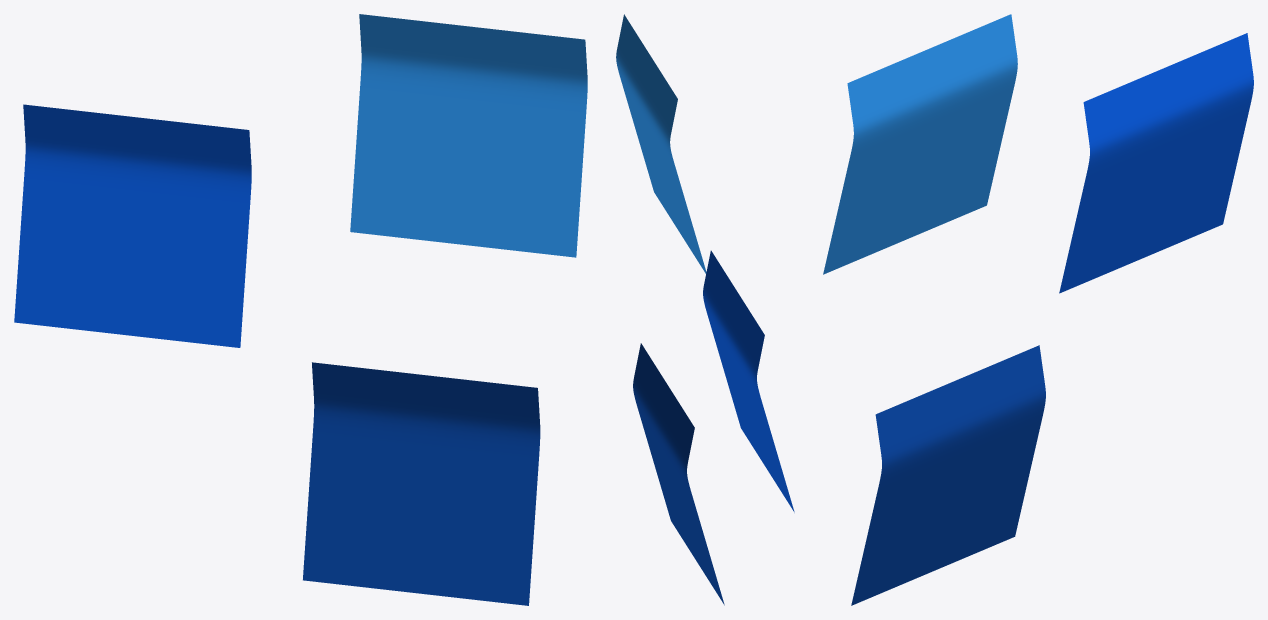
File: sticky_notes.glb
3 renders of one model, left to right at view 1: azimuth 30°, elevation 25°; view 2: azimuth 150°, elevation 25°; view 3: azimuth 270°, elevation 25°, orthographic. The views are drawn at different scales.
Visible parts, largest first — view 1: pPlane4, pPlane3, pPlane5; view 2: pPlane4, pPlane5, pPlane3; view 3: pPlane4, pPlane3, pPlane5.
Boxes of the visible parts, x1,y1,x2,y2 form: pPlane4: [350, 14, 587, 257]; pPlane3: [14, 104, 251, 347]; pPlane5: [303, 362, 540, 605]; pPlane4: [616, 14, 706, 273]; pPlane5: [633, 343, 724, 605]; pPlane3: [703, 250, 794, 512]; pPlane4: [823, 14, 1017, 274]; pPlane3: [1059, 33, 1253, 293]; pPlane5: [851, 345, 1045, 605].
Size of the model in its own units: 37.55 by 51.39 by 36.55.
